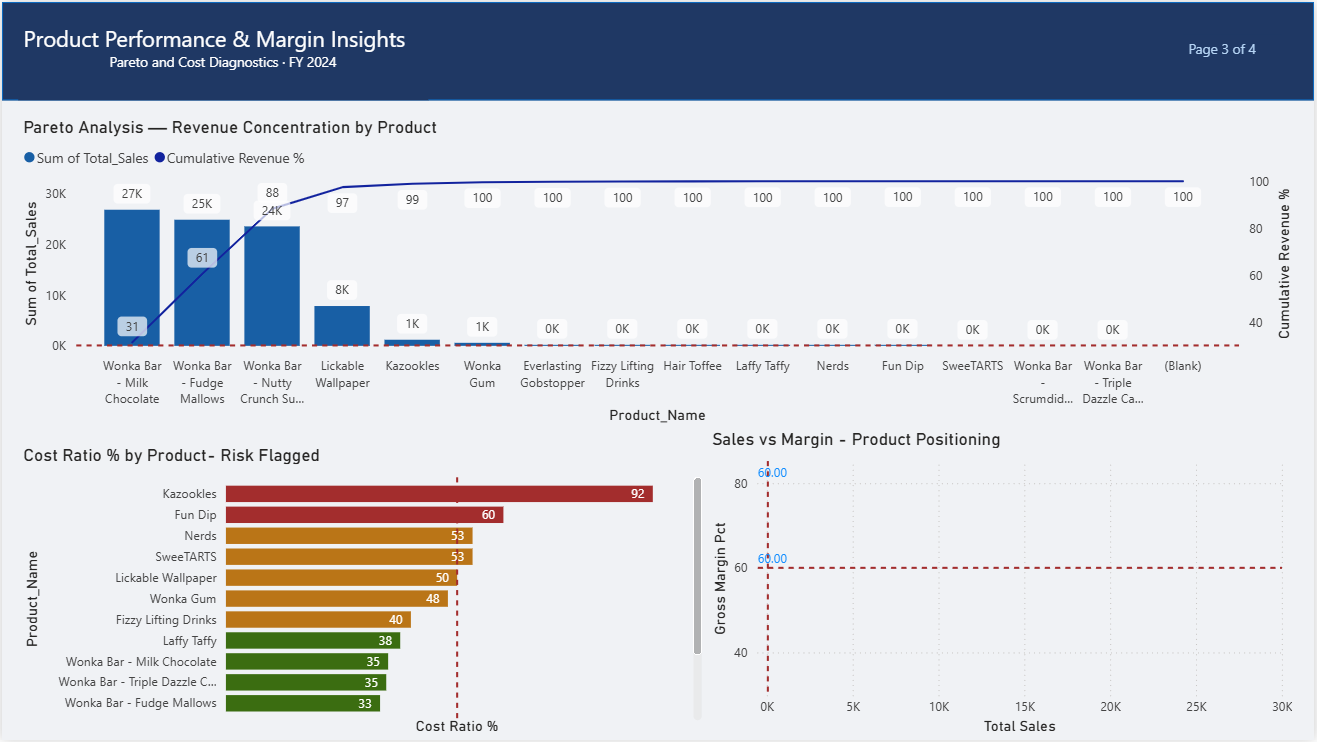

This screenshot's page, from the dashboard's own definition file:
{"tool":"powerbi","page":{"name":"Pareto_Cost_Analysis","canvas":[1280,720],"ordinal":2},"visuals":[{"type":"shape","box":[0,0,1280,96],"z":0},{"type":"textbox","box":[16,16,400,80],"z":1000},{"type":"textbox","box":[1152,32,96,48],"z":2000},{"type":"lineClusteredColumnComboChart","title":"Pareto Analysis — Revenue Concentration by Product","fields":{"Category":["Product_Analysis.Product_Name"],"Y":["Sum(Product_Analysis.Total_Sales)"],"Y2":["Product_Analysis.Cumulative Revenue %"]},"box":[16,112,1248,304],"z":3000},{"type":"clusteredBarChart","title":"Cost Ratio % by Product- Risk Flagged","fields":{"Category":["Product_Analysis.Product_Name"],"Y":["Product_Analysis.Cost Ratio %"]},"box":[16,432,672,288],"z":4000},{"type":"scatterChart","title":"Sales vs Margin - Product Positioning ","fields":{"X":["2.Total Sales"],"Y":["2.Gross Margin Pct"],"Category":["Product_Analysis.Product_Name"],"Size":["CountNonNull(Product_Analysis.Total_Profit)"]},"box":[688,416,576,304],"z":5000}]}

Visuals, with their boxes in screenshot pixels (x1, y1, x2, y2), scaled from the page's 1280x720 canvas onto the 1317x742 screenshot:
shape: BBox(0, 0, 1316, 99)
textbox: BBox(16, 16, 428, 99)
textbox: BBox(1185, 33, 1284, 82)
"Pareto Analysis — Revenue Concentration by Product" lineClusteredColumnComboChart: BBox(16, 115, 1301, 429)
"Cost Ratio % by Product- Risk Flagged" clusteredBarChart: BBox(16, 445, 708, 741)
"Sales vs Margin - Product Positioning " scatterChart: BBox(708, 429, 1301, 741)
